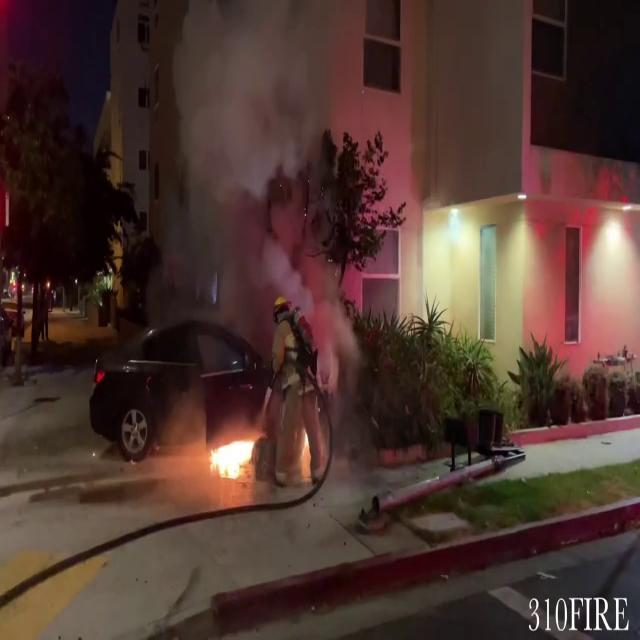Fire: (206, 426, 260, 484)
Smoke: (152, 0, 356, 311)
